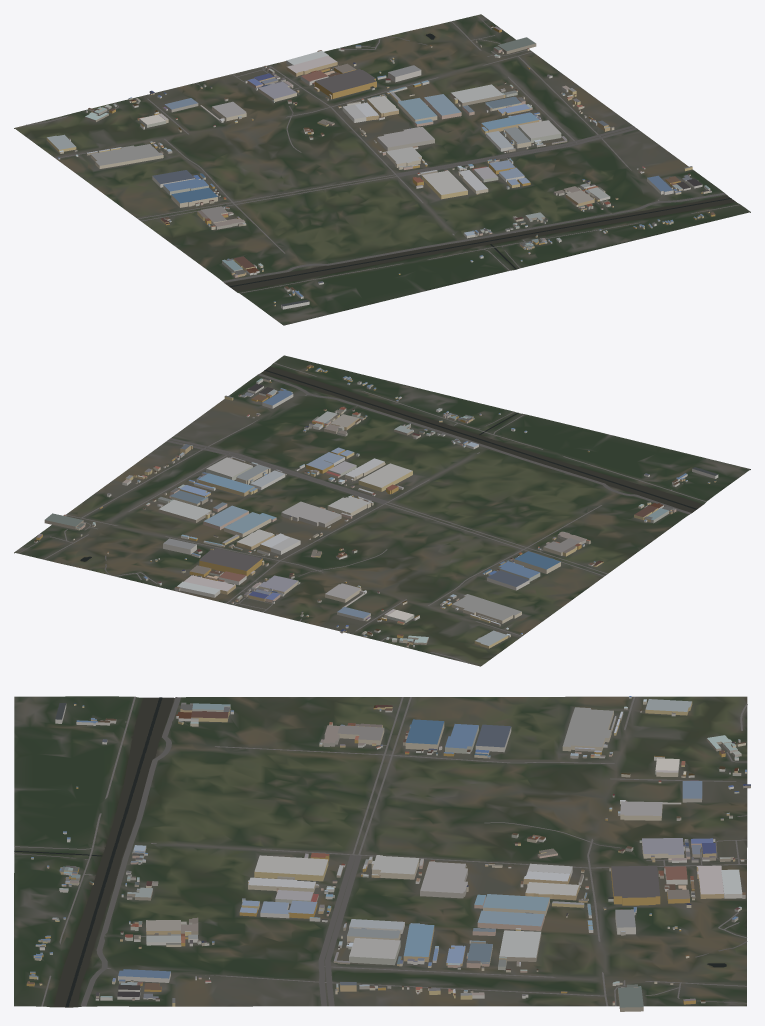
The picture shows the model from 3 angles, top to bottom: view 1: azimuth 30°, elevation 25°; view 2: azimuth 150°, elevation 25°; view 3: azimuth 270°, elevation 25°; orthographic projection. The views are drawn at different scales.
Visible parts, largest first — view 1: ground, buildings, roads, water; view 2: ground, buildings, roads, water; view 3: ground, buildings, roads, water.
Part boxes in pixels (<box>): ground: <box>14,14,750,325</box>; buildings: <box>46,25,715,309</box>; roads: <box>26,15,740,293</box>; water: <box>225,33,735,291</box>; ground: <box>14,355,750,666</box>; buildings: <box>34,364,718,648</box>; roads: <box>18,363,706,663</box>; water: <box>80,366,702,561</box>; ground: <box>14,696,747,1007</box>; buildings: <box>26,696,750,1011</box>; roads: <box>14,696,747,1006</box>; water: <box>14,697,726,1007</box>.
Size of the model in its own units: 1425 by 23.38 by 1408.
